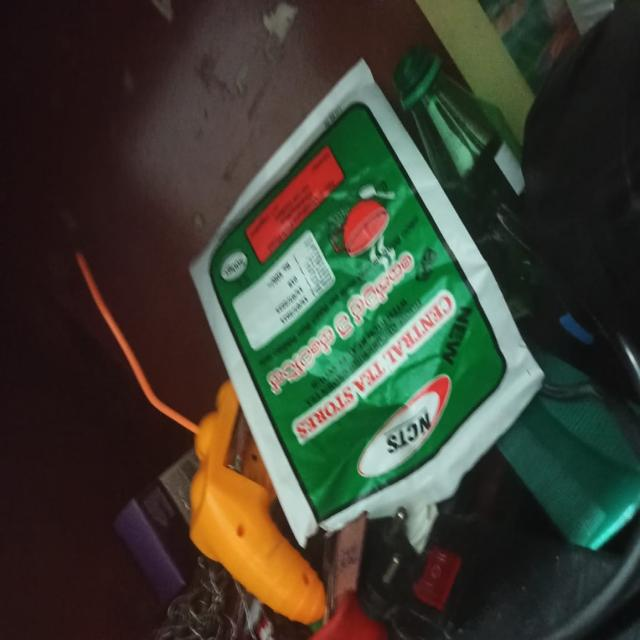Central Tea: (198, 160, 515, 478)
